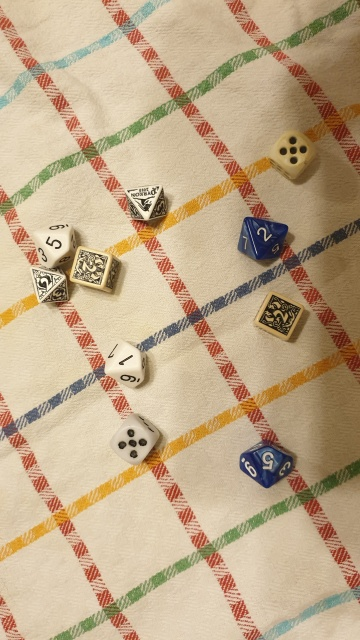d10-2: (233, 208, 294, 267)
d10-5: (233, 437, 303, 493), (101, 333, 154, 398), (27, 213, 81, 273)
d6-5: (106, 409, 169, 471), (265, 124, 321, 185)
d6p-2: (250, 288, 306, 344), (67, 244, 123, 297)
d8p-1: (121, 183, 174, 231)
d8p-2: (26, 263, 72, 309)
